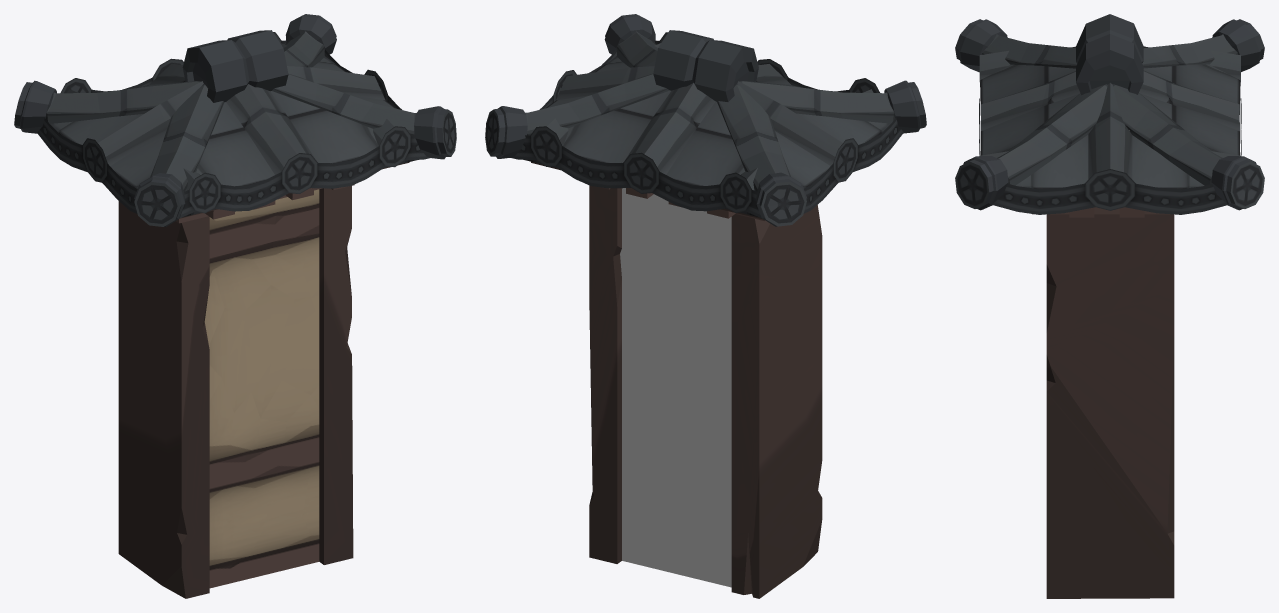
File: SM_Bld_Fence_Dobei_Pillar_01.fbx
3 renders of one model, left to right at view 1: azimuth 30°, elevation 25°; view 2: azimuth 150°, elevation 25°; view 3: azimuth 270°, elevation 25°, orthographic.
Parts seen in each view (by area): view 1: SM_Bld_Fence_Dobei_Pillar_01; view 2: SM_Bld_Fence_Dobei_Pillar_01; view 3: SM_Bld_Fence_Dobei_Pillar_01.
Part boxes in pixels (<box>): SM_Bld_Fence_Dobei_Pillar_01: <box>14,14,456,598</box>; SM_Bld_Fence_Dobei_Pillar_01: <box>485,14,926,598</box>; SM_Bld_Fence_Dobei_Pillar_01: <box>955,14,1264,598</box>.
Bounding box in the file's own units: 263 × 404 × 216.
